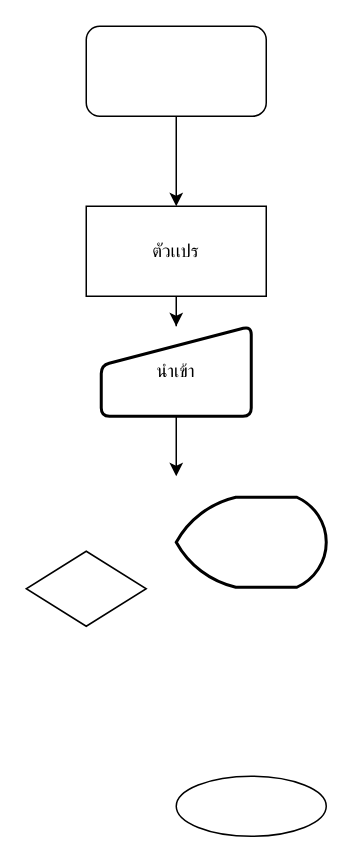
Some shapes in this 354 by 863 pixel diagram are drawn without their labels. The box of each missing label's shape, as (x1, y1, x2, y2) in pixels:
Attribute: (175, 775, 326, 836)
เริ่ม: (85, 25, 266, 116)
